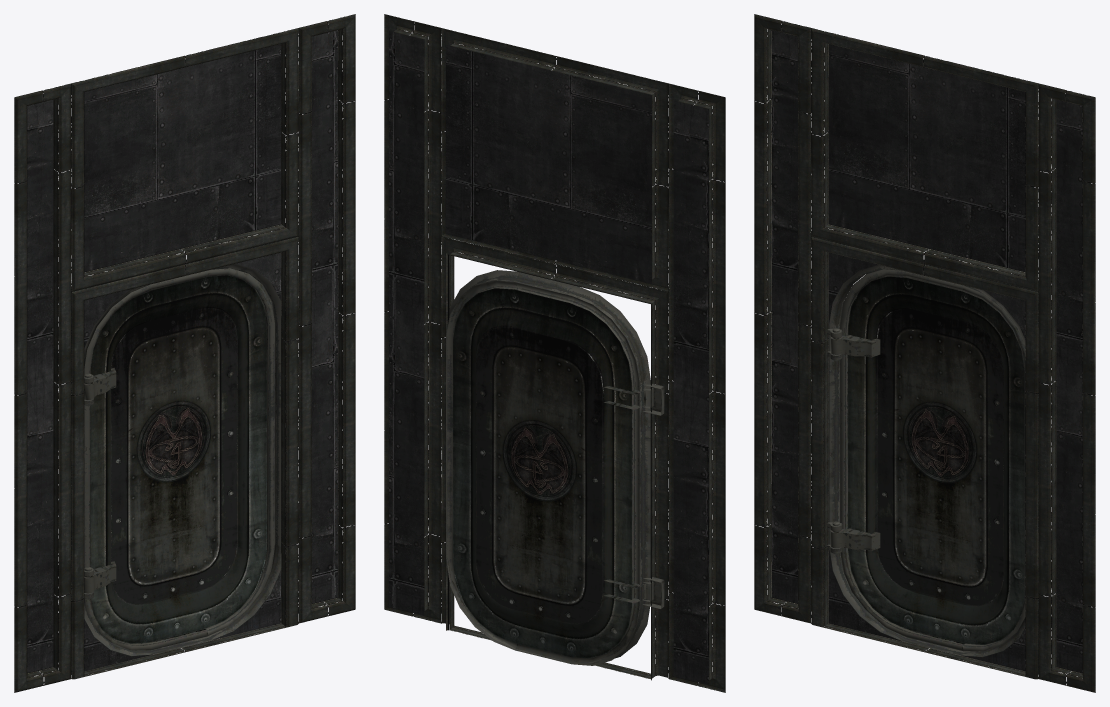
File: tesla_modules_core_door_closed.dae
3 views of the same model, side by side, from view 1: azimuth 30°, elevation 25°; view 2: azimuth 150°, elevation 25°; view 3: azimuth 330°, elevation 25° (orthographic).
Visible parts, largest first — view 1: polySurface533, polySurface784, polySurface783; view 2: polySurface533, polySurface784, polySurface783; view 3: polySurface533, polySurface784, polySurface783.
Part boxes in pixels (x1,y1,x2,y2): polySurface533: (22, 30, 337, 674); polySurface784: (66, 264, 284, 656); polySurface783: (14, 14, 355, 692); polySurface533: (389, 31, 708, 684); polySurface784: (446, 270, 664, 665); polySurface783: (384, 14, 725, 692); polySurface533: (772, 27, 1082, 674); polySurface784: (816, 265, 1025, 657); polySurface783: (754, 14, 1095, 692).
Bounding box in the file's own units: 3 × 5 × 0.2176.
